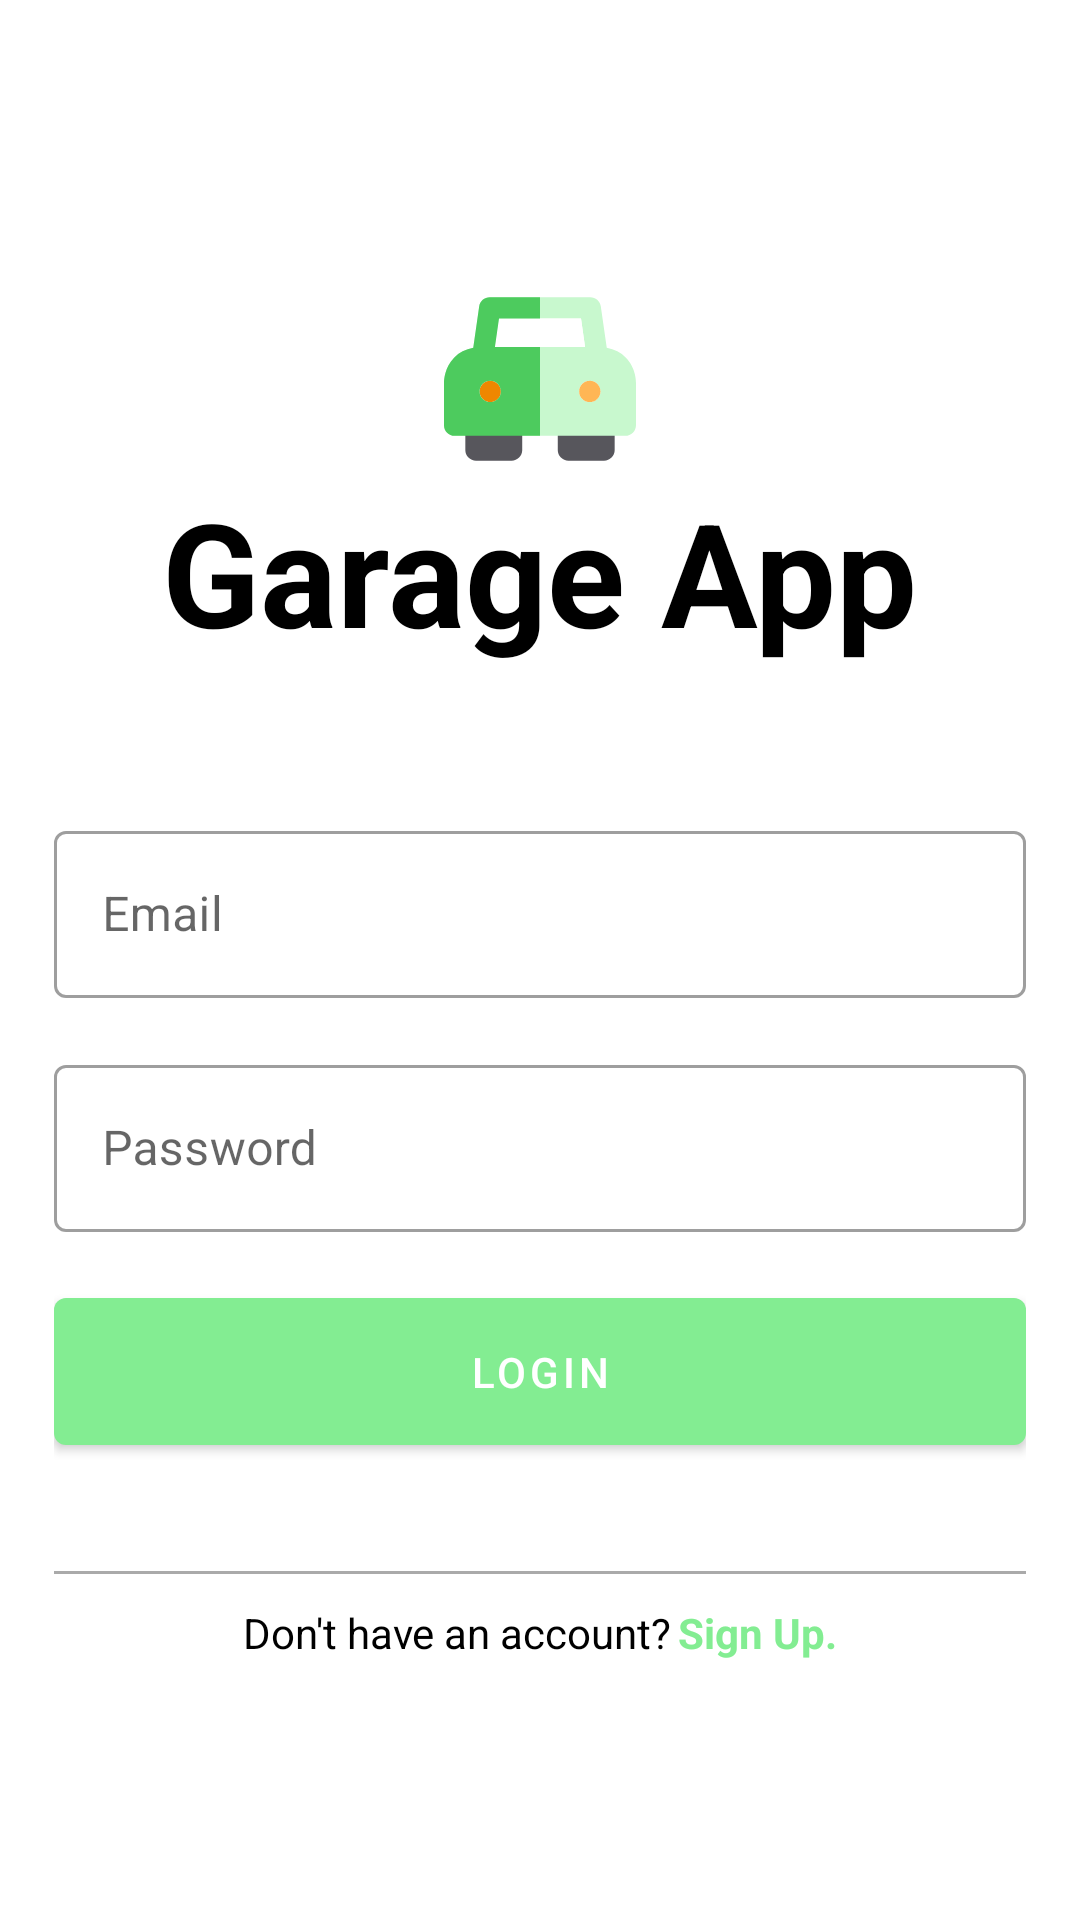

Named icons in this screenshot (1080*1920) and their bounding boxes, bbox=[x1, y1, x2, y2]:
car: bbox=[444, 297, 636, 461]
